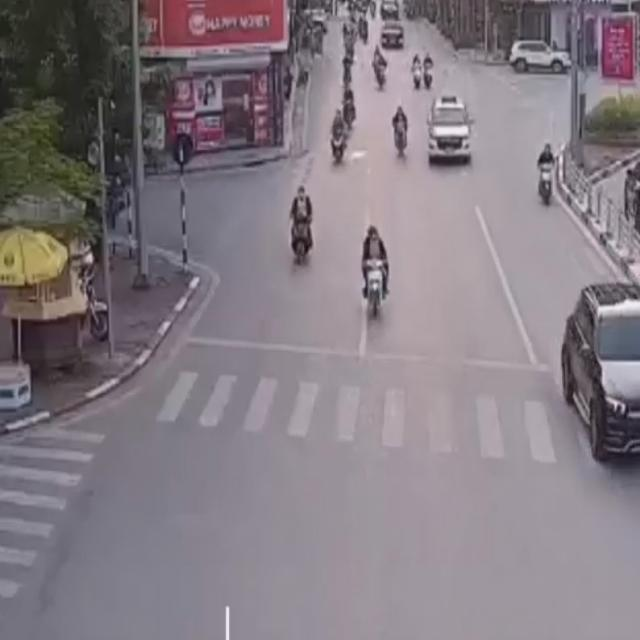car: (558, 277, 640, 468), (423, 91, 476, 170)
motorbike: (358, 224, 392, 324), (287, 183, 315, 276), (534, 140, 558, 210), (326, 107, 348, 167), (391, 101, 411, 163), (342, 85, 357, 134)
